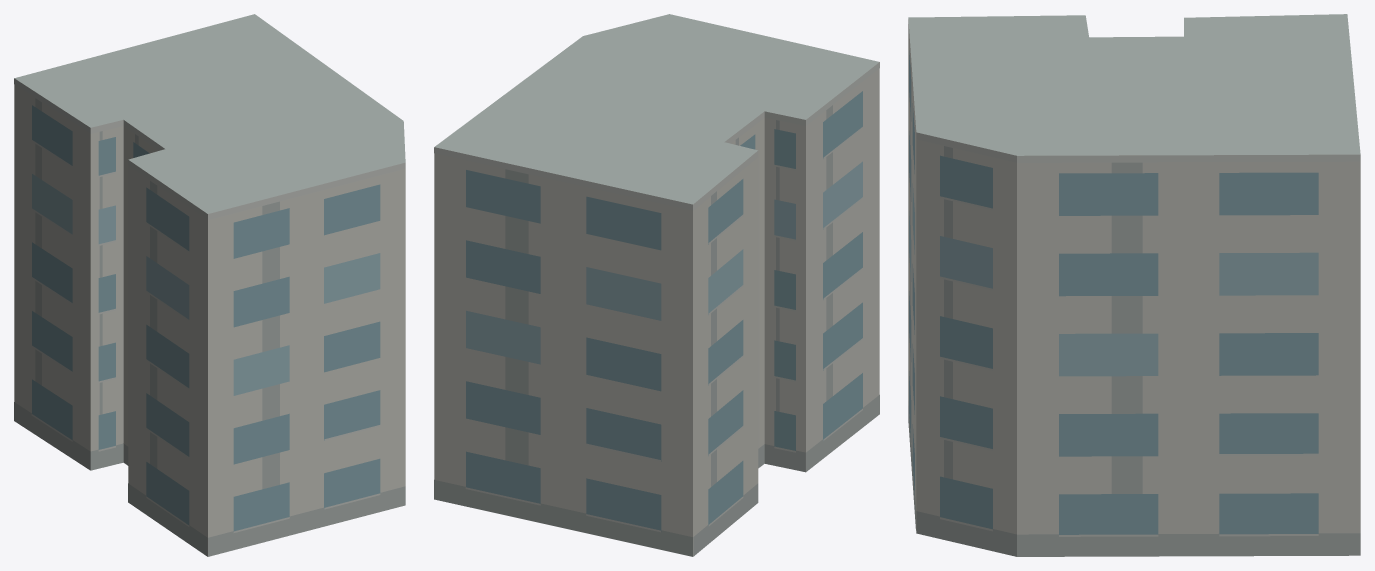
Rendered from survey-upis-32802912.glb.
The picture shows the model from 3 angles, left to right: view 1: azimuth 30°, elevation 25°; view 2: azimuth 150°, elevation 25°; view 3: azimuth 270°, elevation 25°; orthographic projection. The views are drawn at different scales.
Visible parts, largest first — view 1: survey-upis-32802912.tmp; view 2: survey-upis-32802912.tmp; view 3: survey-upis-32802912.tmp.
Part boxes in pixels (box(x1,y1,x2,y2)): survey-upis-32802912.tmp: box(14, 14, 405, 556); survey-upis-32802912.tmp: box(434, 14, 879, 556); survey-upis-32802912.tmp: box(908, 14, 1360, 556).
Size of the model in its own units: 10.36 by 13.65 by 13.96.
